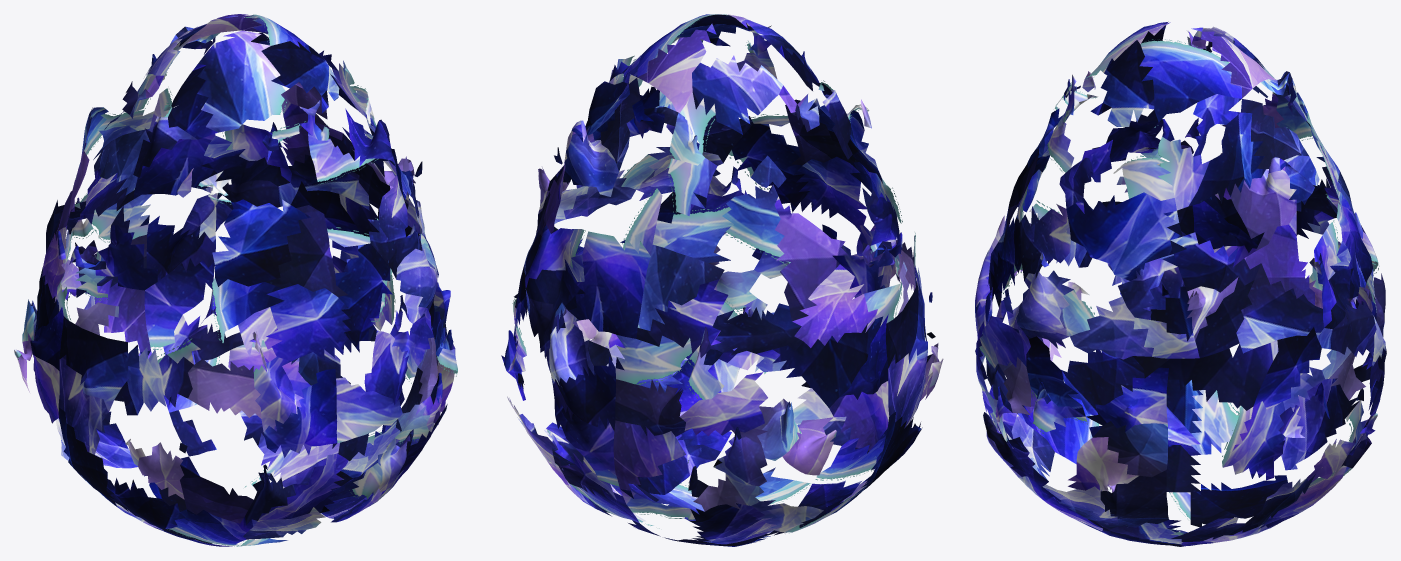
Rendered from black_ice_egg.obj.
The picture shows the model from 3 angles, left to right: view 1: azimuth 30°, elevation 25°; view 2: azimuth 150°, elevation 25°; view 3: azimuth 270°, elevation 25°; orthographic projection.
Visible parts, largest first — view 1: black_ice_egg; view 2: black_ice_egg; view 3: black_ice_egg.
Boxes of the visible parts, left/top/right/bottom form: black_ice_egg: left=14, top=14, right=457, bottom=546; black_ice_egg: left=501, top=14, right=943, bottom=546; black_ice_egg: left=975, top=21, right=1386, bottom=546.
Bounding box in the file's own units: 1.44 × 1.91 × 1.41.
